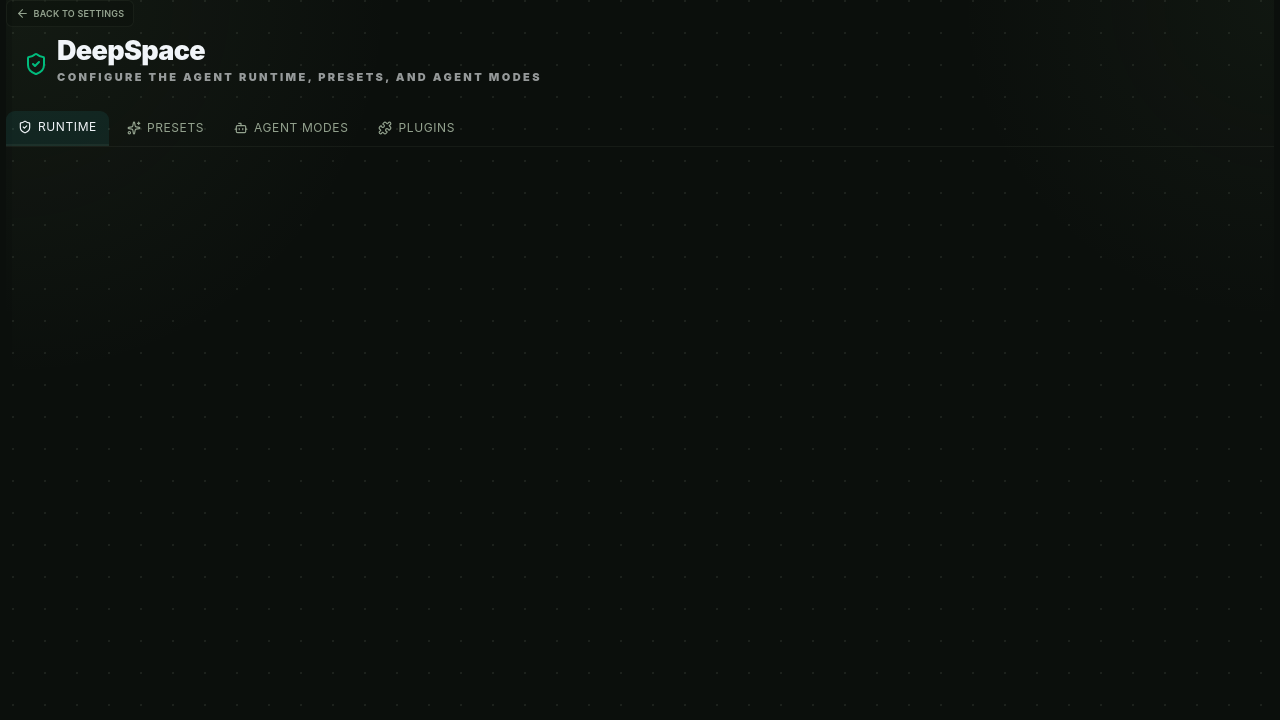
it: DeepSpace preset and mode synchronization › displays User default on Custom and Deployment default on Standard in Agent modes tab
Click the tab "Agent Modes" at (291, 128), box x1=222 y1=110 x2=360 y2=146
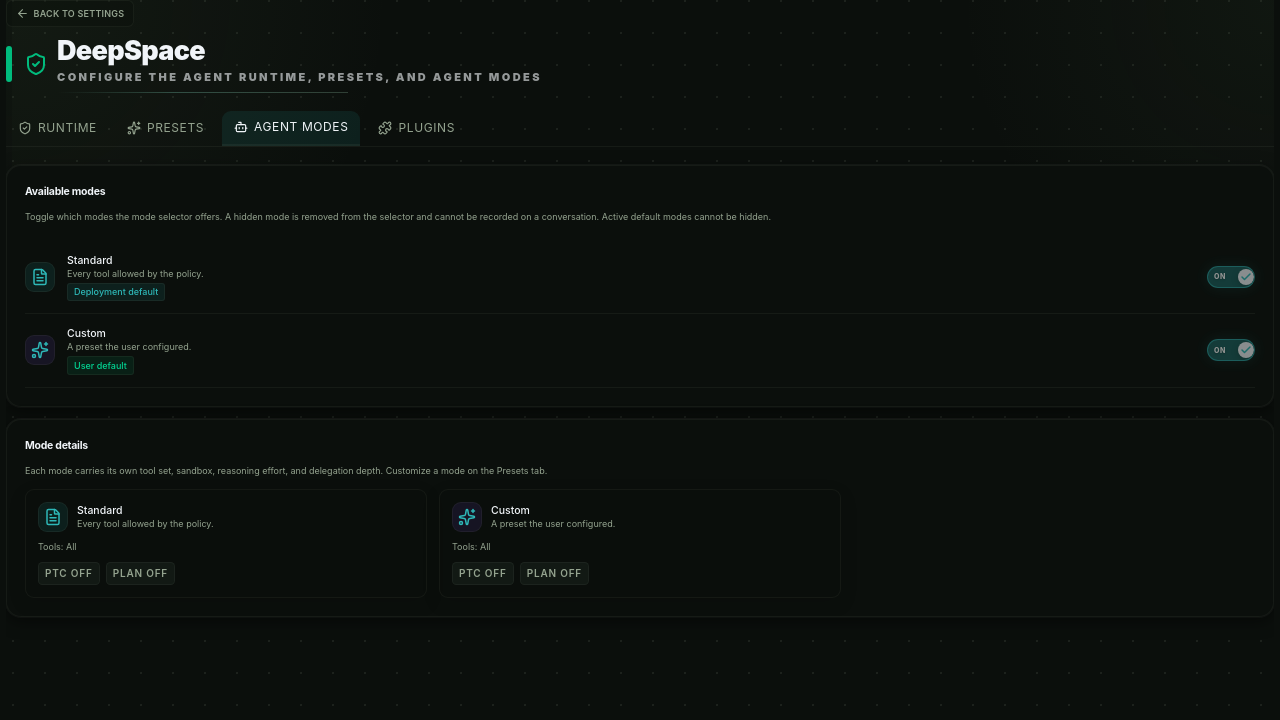
Result: the heading "Available modes" is shown at x1=25 y1=184 x2=105 y2=198
Result: the text "User default" is shown at x1=67 y1=356 x2=134 y2=374
Result: the text "Deployment default" is shown at x1=67 y1=282 x2=165 y2=301
